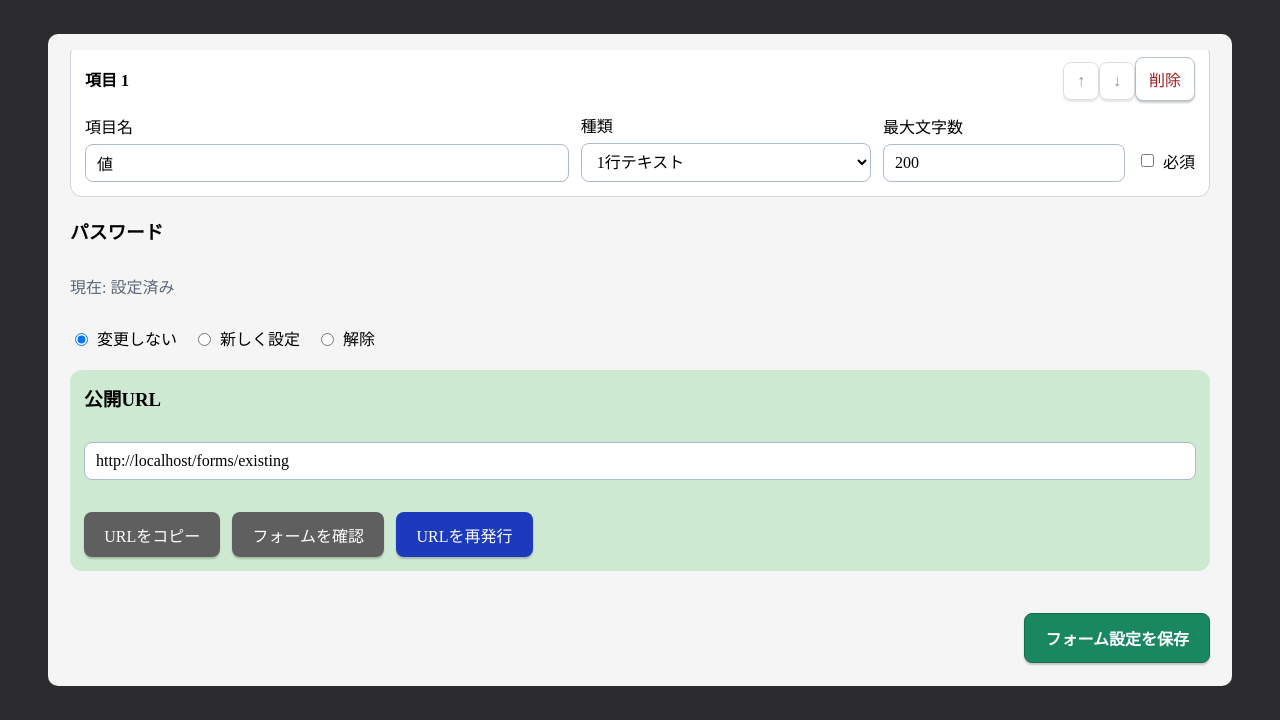
Test: 設定の検証・競合・公開URL操作 › サーバーの競合・検証エラーを表示して編集内容を保つ: 409
(page scrolled)
Click the button "フォーム設定を保存": (1117, 638) left=1024, top=613, right=1210, bottom=663
(page scrolled)
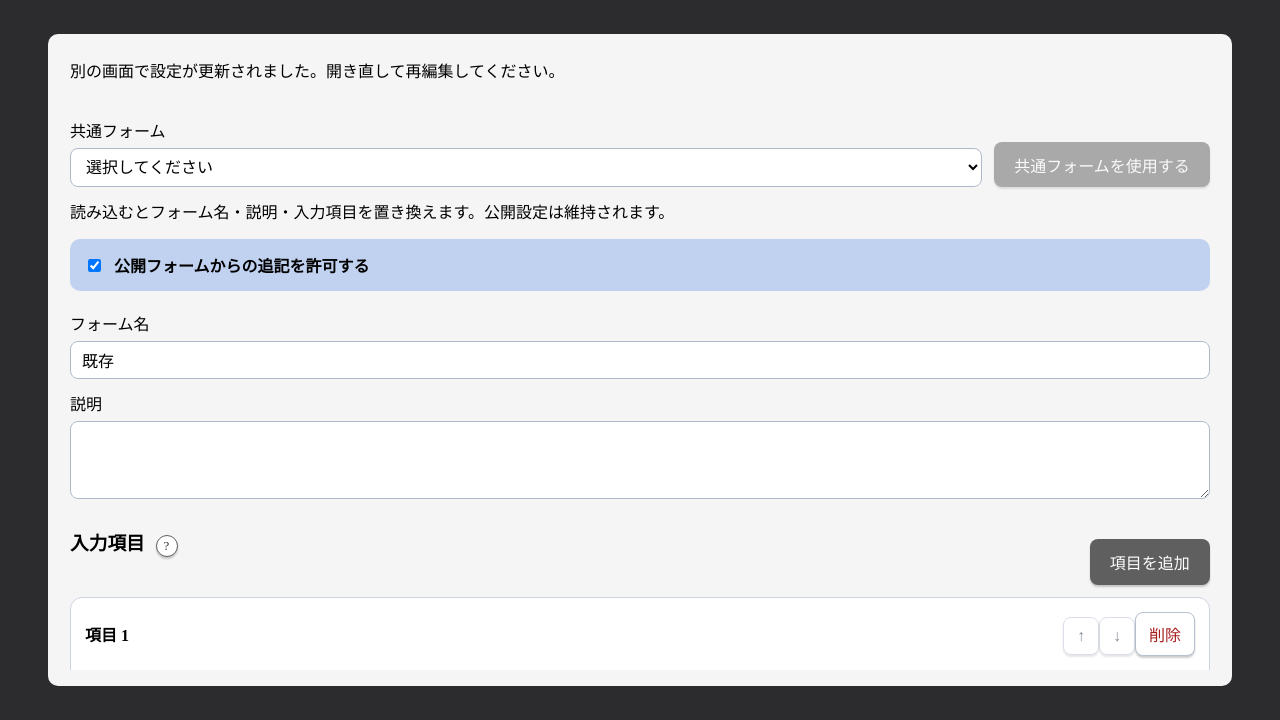
Expected: the text "別の画面で設定が更新" is shown, left=70, top=63, right=565, bottom=80
Expected: the field labelled "フォーム名" holds "既存", left=70, top=341, right=1210, bottom=379
